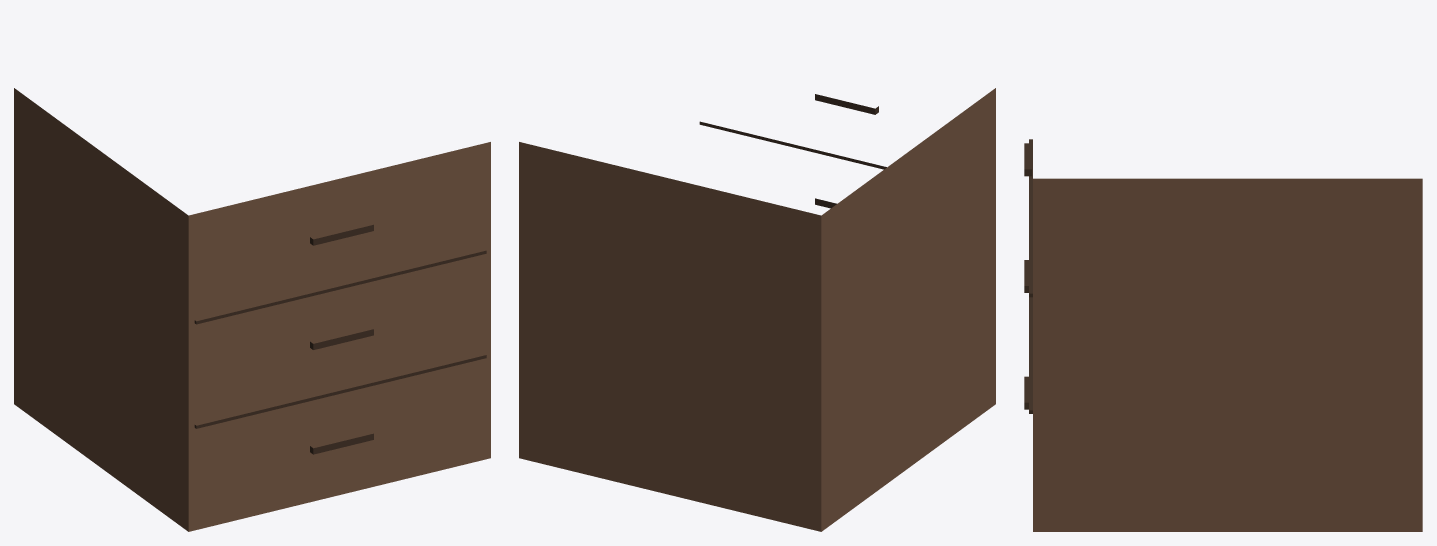
The model's file is Storage-brown.glb.
3 renders of one model, left to right at view 1: azimuth 30°, elevation 25°; view 2: azimuth 150°, elevation 25°; view 3: azimuth 270°, elevation 25°, orthographic. The views are drawn at different scales.
Visible parts, largest first — view 1: Storage; view 2: Storage; view 3: Storage.
Part boxes in pixels (x1,y1,x2,y2): Storage: [14, 88, 490, 531]; Storage: [519, 88, 995, 531]; Storage: [1024, 139, 1422, 531].
Size of the model in its own units: 1 by 1 by 1.02.
